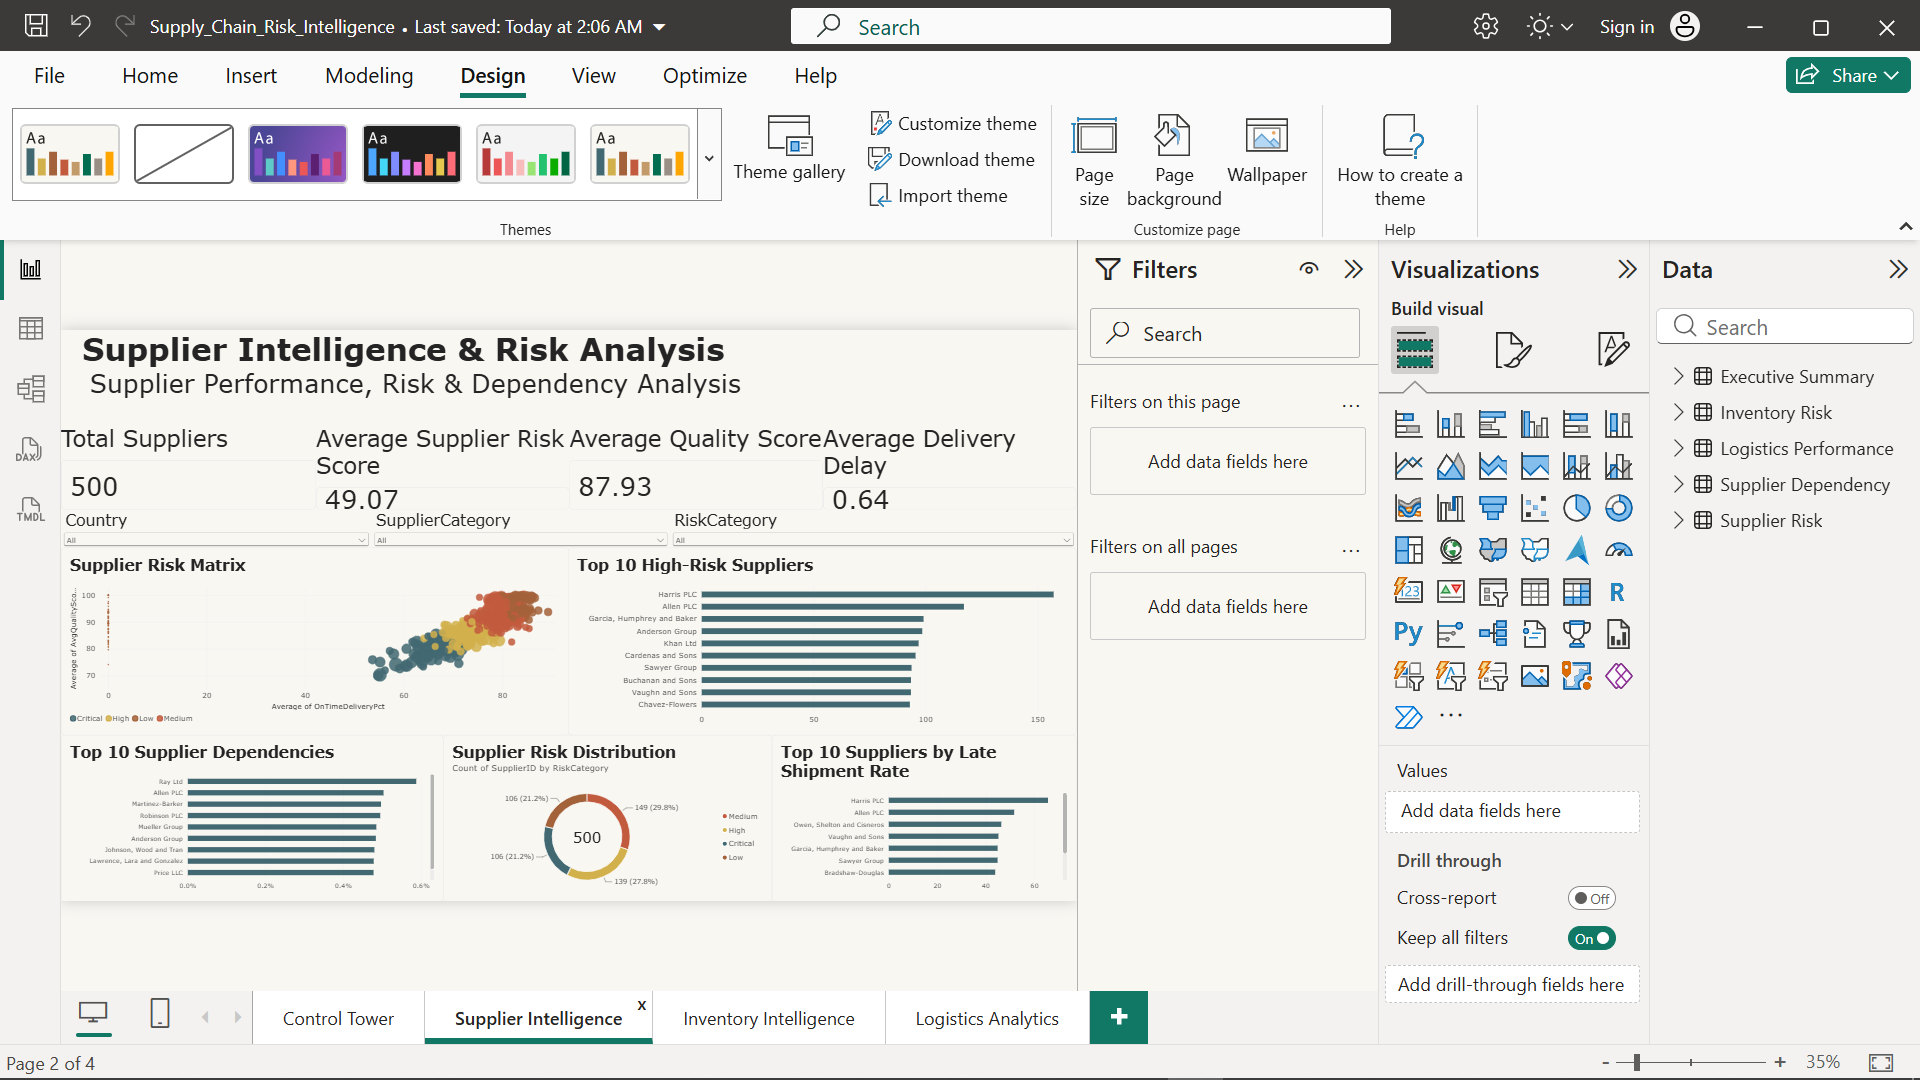

What the dashboard file says about the page in this screenshot:
{"tool":"powerbi","page":{"name":"Supplier Intelligence","canvas":[1920,1080],"ordinal":1},"visuals":[{"type":"textbox","box":[0,0,1919.1,158.7],"z":0},{"type":"scatterChart","title":"Supplier Risk Matrix","fields":{"Category":["Supplier Risk.SupplierName"],"Series":["Supplier Risk.RiskCategory"],"Size":["Sum(Supplier Risk.TotalPurchaseValue)"],"X":["Avg(Supplier Risk.OnTimeDeliveryPct)"],"Y":["Avg(Supplier Risk.AvgQualityScore)"]},"box":[0,411,961,354.3],"z":1000},{"type":"slicer","fields":{"Values":["Supplier Risk.Country"]},"box":[0,340.2,586.8,70.9],"z":2000},{"type":"slicer","fields":{"Values":["Supplier Risk.SupplierCategory"]},"box":[586.8,340.2,564.1,70.9],"z":3000},{"type":"slicer","fields":{"Values":["Supplier Risk.RiskCategory"]},"box":[1150.9,340.2,768.2,70.9],"z":4000},{"type":"cardVisual","title":"Total Suppliers","fields":{"Data":["Count(Supplier Risk.SupplierID)"]},"box":[0,178.6,481.9,161.6],"z":5000},{"type":"cardVisual","title":"Average Supplier Risk Score","fields":{"Data":["Avg(Supplier Risk.RiskScore)"]},"box":[481.9,178.6,479.1,161.6],"z":6000},{"type":"cardVisual","title":"Average Quality Score","fields":{"Data":["Avg(Supplier Risk.AvgQualityScore)"]},"box":[961,178.6,479.1,161.6],"z":7000},{"type":"cardVisual","title":"Average Delivery Delay","fields":{"Data":["Avg(Supplier Risk.AvgDelayDays)"]},"box":[1440,178.6,479.1,161.6],"z":8000},{"type":"barChart","title":"Top 10 High-Risk Suppliers","fields":{"Category":["Supplier Risk.SupplierName"],"Y":["Sum(Supplier Risk.RiskScore)"]},"box":[958.1,411,961,354.3],"z":9000},{"type":"barChart","title":"Top 10 Supplier Dependencies","fields":{"Category":["Supplier Dependency.SupplierName"],"Y":["Executive Summary.Dependency_Percentage"]},"box":[0,765.4,722.8,314.6],"z":10000},{"type":"donutChart","title":"Supplier Risk Distribution","fields":{"Category":["Supplier Risk.RiskCategory"],"Y":["Count(Supplier Risk.SupplierID)"]},"box":[722.8,765.4,620.8,314.6],"z":11000},{"type":"barChart","title":"Top 10 Suppliers by Late Shipment Rate","fields":{"Category":["Supplier Risk.SupplierName"],"Y":["Sum(Supplier Risk.LateShipmentPct)"]},"box":[1344,765,575,315],"z":12000}]}

Visuals, with their boxes on the page's 1920x1080 design canvas (x1, y1, x2, y2). These are canvas units, not pixel positions in the 1920x1080 screenshot, which may show the page scaled, cropped or inside an application window:
textbox: x1=0 y1=0 x2=1919 y2=159
"Supplier Risk Matrix" scatterChart: x1=0 y1=411 x2=961 y2=765
slicer - Supplier Risk.Country: x1=0 y1=340 x2=587 y2=411
slicer - Supplier Risk.SupplierCategory: x1=587 y1=340 x2=1151 y2=411
slicer - Supplier Risk.RiskCategory: x1=1151 y1=340 x2=1919 y2=411
"Total Suppliers" cardVisual: x1=0 y1=179 x2=482 y2=340
"Average Supplier Risk Score" cardVisual: x1=482 y1=179 x2=961 y2=340
"Average Quality Score" cardVisual: x1=961 y1=179 x2=1440 y2=340
"Average Delivery Delay" cardVisual: x1=1440 y1=179 x2=1919 y2=340
"Top 10 High-Risk Suppliers" barChart: x1=958 y1=411 x2=1919 y2=765
"Top 10 Supplier Dependencies" barChart: x1=0 y1=765 x2=723 y2=1080
"Supplier Risk Distribution" donutChart: x1=723 y1=765 x2=1344 y2=1080
"Top 10 Suppliers by Late Shipment Rate" barChart: x1=1344 y1=765 x2=1919 y2=1080
